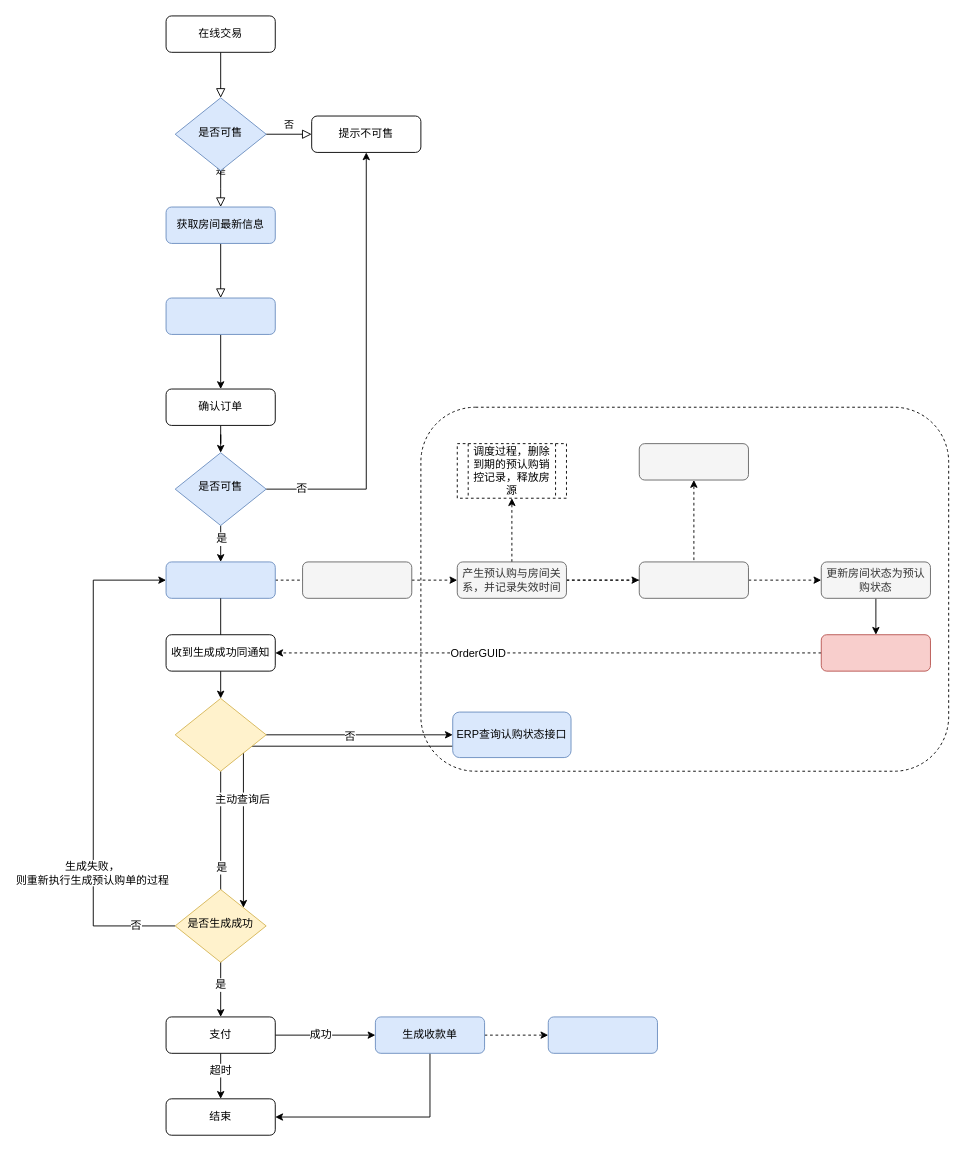
Some shapes in this 965 by 1151 pixel diagram are drawn without their labels. Each missing label, with the centre of its shape:
"发送异步事件通知" goes at point (875, 652).
"是否接收到通知" goes at point (220, 734).
"生成预买方数据" goes at point (693, 461).
"生成预认购单" goes at point (220, 579).
"生成预认购单数据" goes at point (693, 579).
"获取房间付款方式和折扣" goes at point (220, 315).
"认购完整校验" goes at point (357, 579).
"预认购转认购" goes at point (602, 1034).
